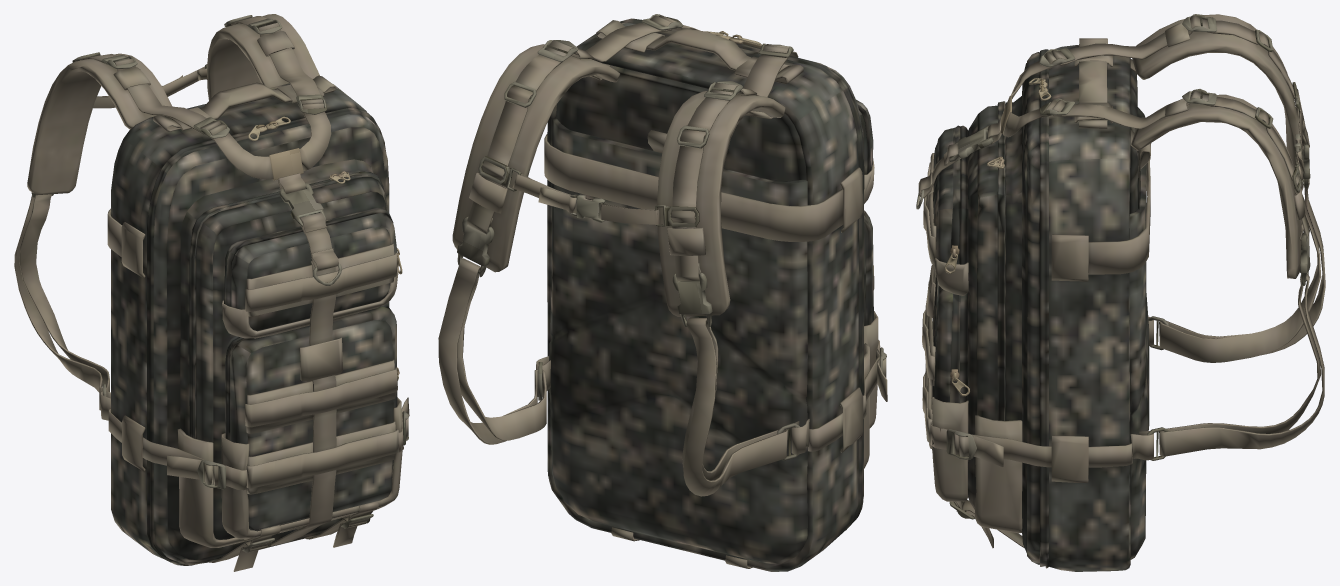
The model's file is military_backpack.ae3aade15b.glb.
The picture shows the model from 3 angles, left to right: view 1: azimuth 30°, elevation 25°; view 2: azimuth 150°, elevation 25°; view 3: azimuth 270°, elevation 25°; orthographic projection. The views are drawn at different scales.
Parts seen in each view (by area): view 1: military_backpack_0, military_backpack_5, military_backpack_1, military_backpack_2; view 2: military_backpack_0, military_backpack_5, military_backpack_1; view 3: military_backpack_0, military_backpack_5, military_backpack_1, military_backpack_4.
Boxes of the visible parts, bbox=[...] form: military_backpack_0: bbox=[111, 83, 397, 565]; military_backpack_5: bbox=[14, 14, 409, 571]; military_backpack_1: bbox=[31, 15, 408, 552]; military_backpack_2: bbox=[269, 148, 303, 180]; military_backpack_0: bbox=[547, 18, 873, 571]; military_backpack_5: bbox=[438, 15, 887, 568]; military_backpack_1: bbox=[457, 14, 886, 460]; military_backpack_0: bbox=[932, 45, 1149, 571]; military_backpack_5: bbox=[918, 14, 1325, 548]; military_backpack_1: bbox=[916, 14, 1310, 519]; military_backpack_4: bbox=[944, 78, 1051, 396].
Bounding box in the file's own units: 0.3205 × 0.5598 × 0.4361.
Materials: 6 (6 with a texture image).
